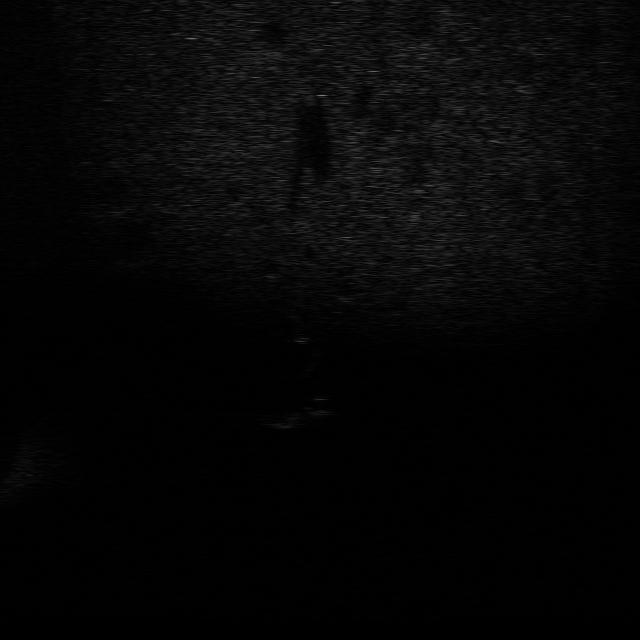ball: (296, 392, 338, 418)
human body: (283, 309, 325, 378)
square cage: (258, 409, 308, 427)
